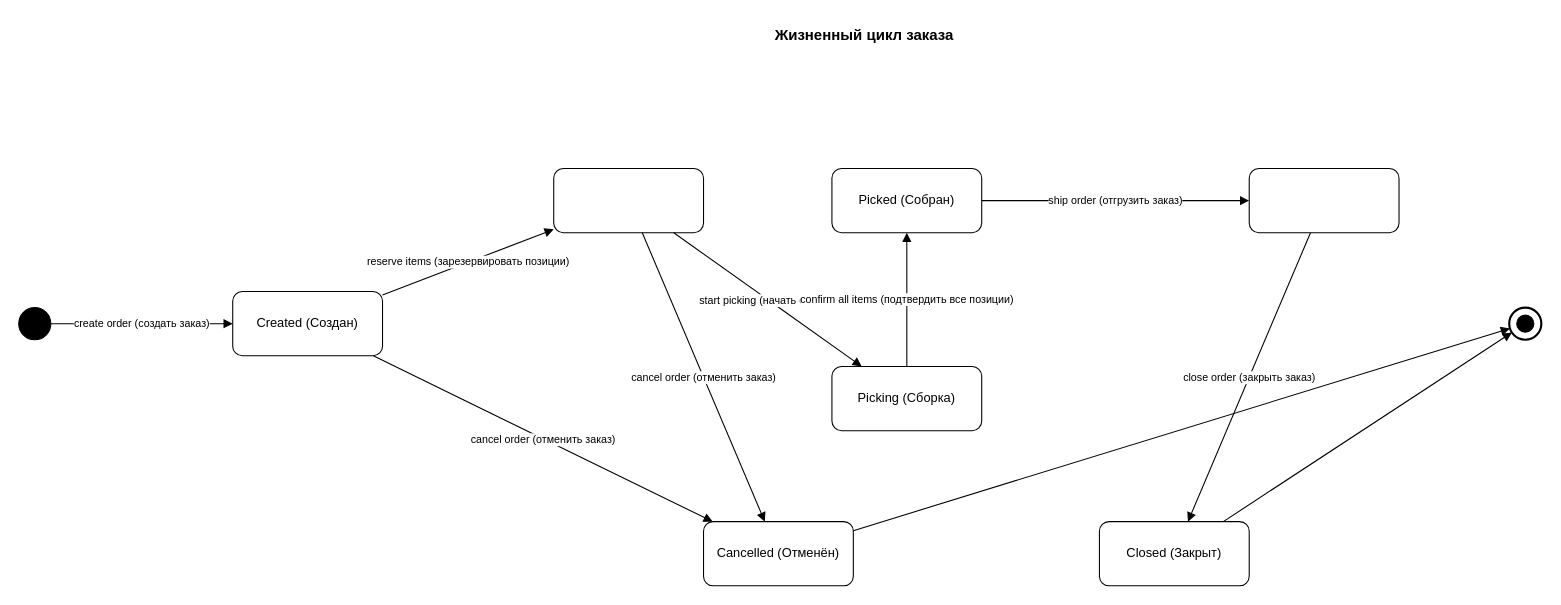
The diagram is 1561 pixels wide and 605 high, and some of its shapes have lost their labels. The shapes that lost their labels are listed below. From the top down, each one's centre as x and y in pixels, then its label:
At point 628,200: "Reserved (Зарезервирован)".
At point 1323,200: "Shipped (Отгружен)".
